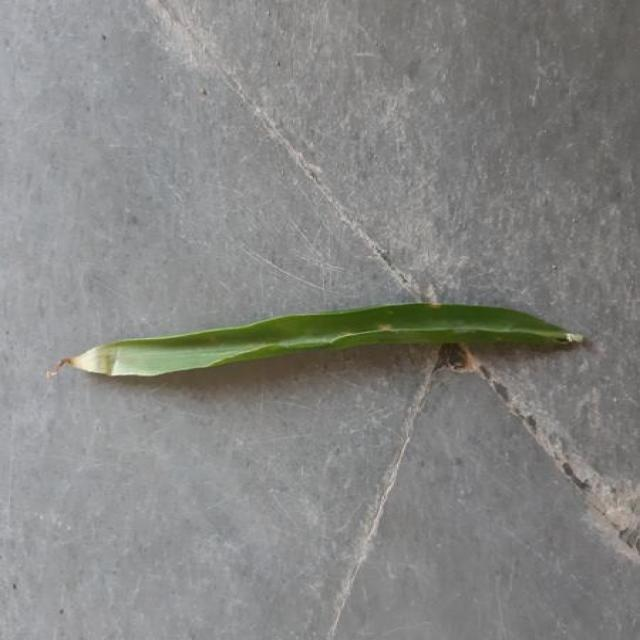ginger: (62, 302, 583, 376)
